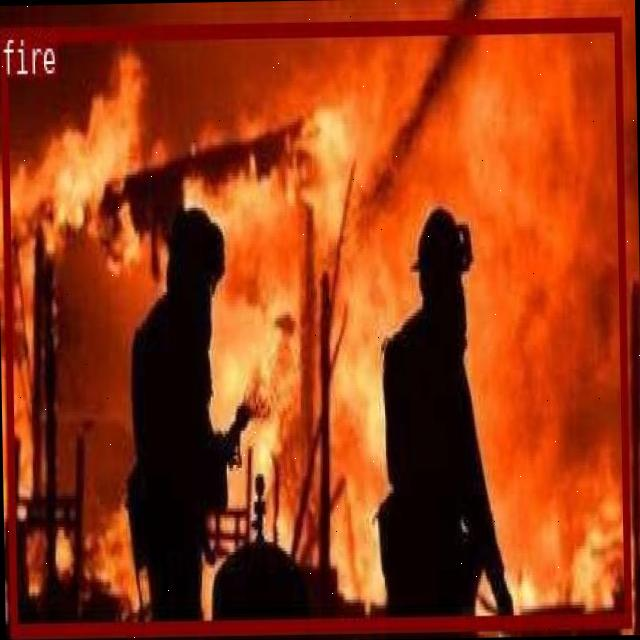fire: (0, 14, 629, 633)
